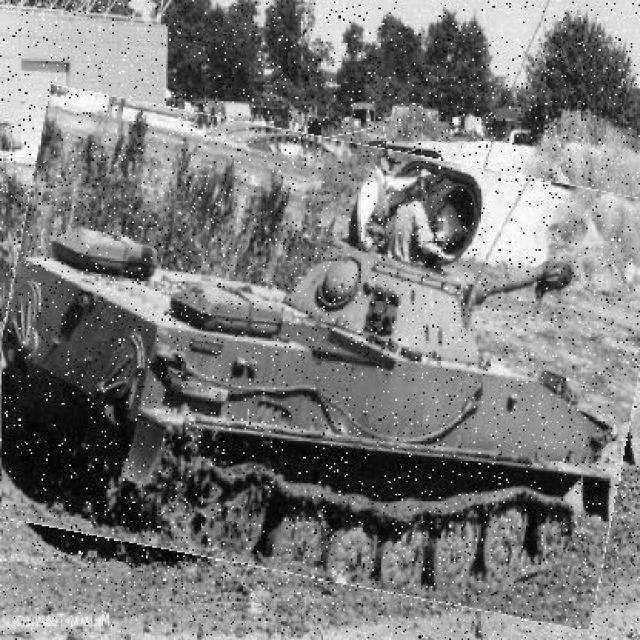Person: (320, 130, 403, 249), (355, 155, 442, 252)
Tank: (3, 113, 640, 606)
